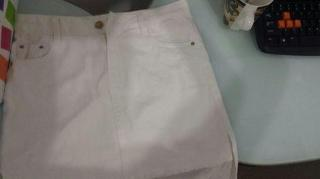skirt: (0, 0, 238, 178)
